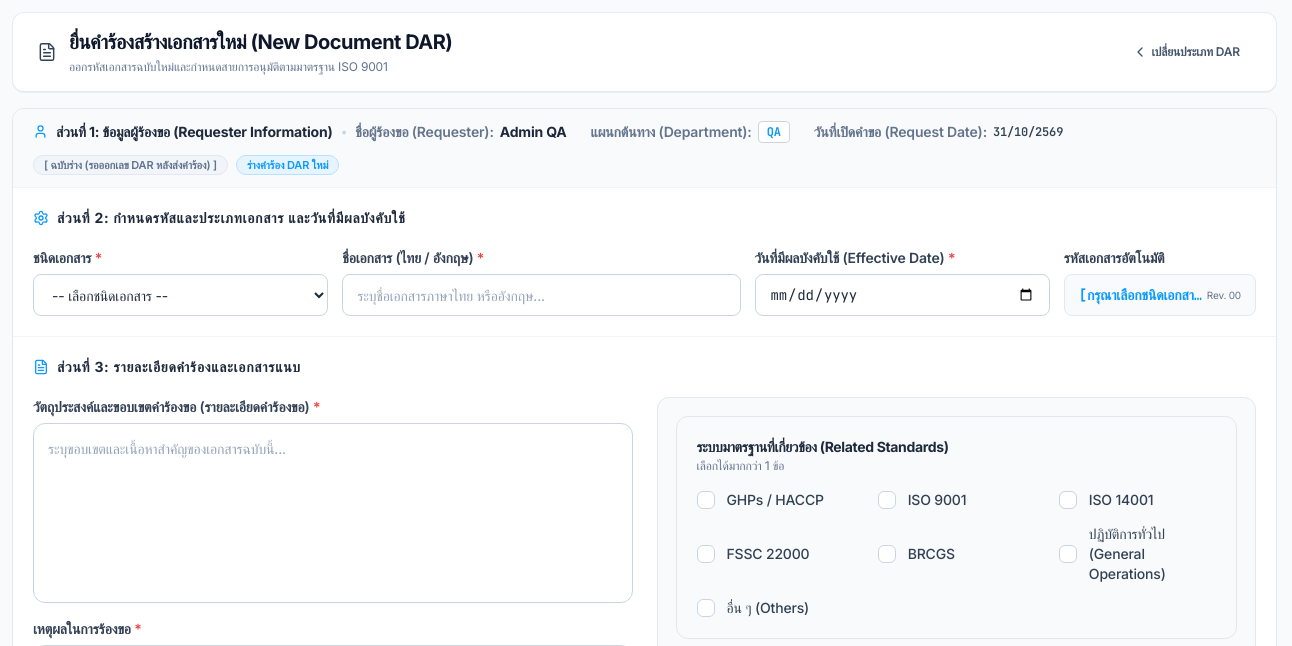
it: Layout Cleanliness & Ghost Container Elimination Tests › renders standard Distribution Matrix (DistributionSetup) when docType is SOP and not the FM notice
Select docType: SOP
Select "Standard Operating Procedure (SOP)" in the dropdown at (181, 295), box [33,274,328,316]
(page scrolled)
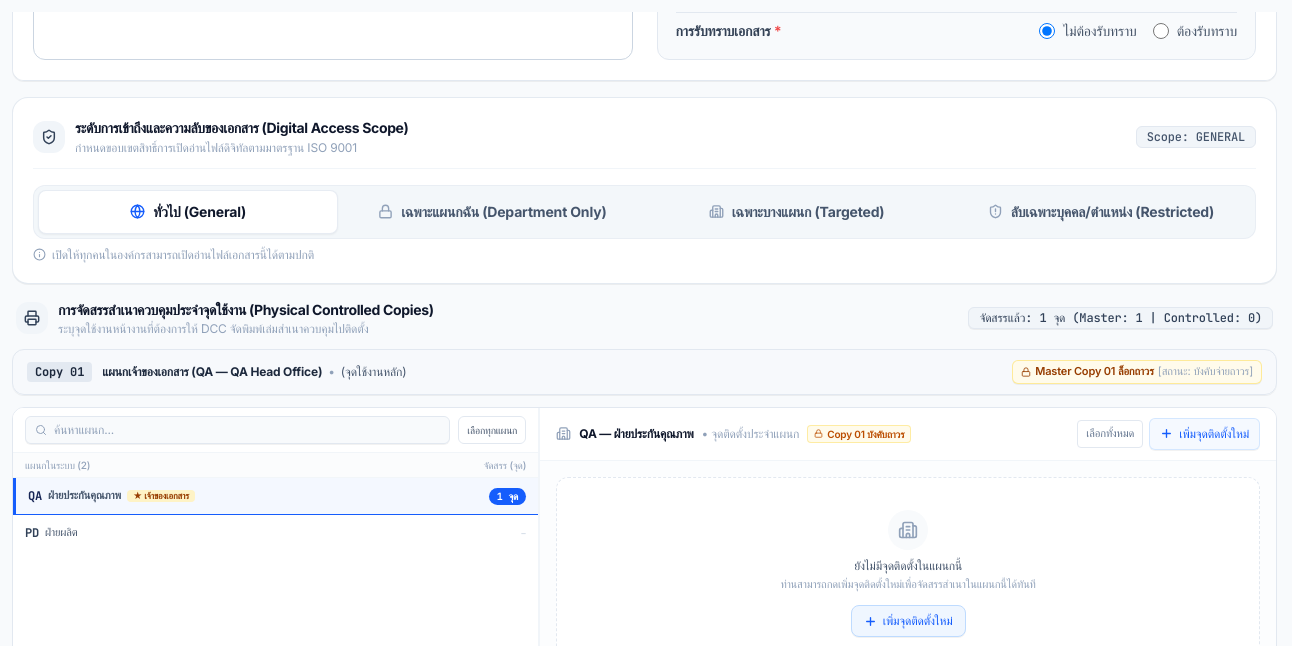
Expected: the text "Master Copy 01 ล็อกถาวร" is shown, [1035,363,1154,380]
